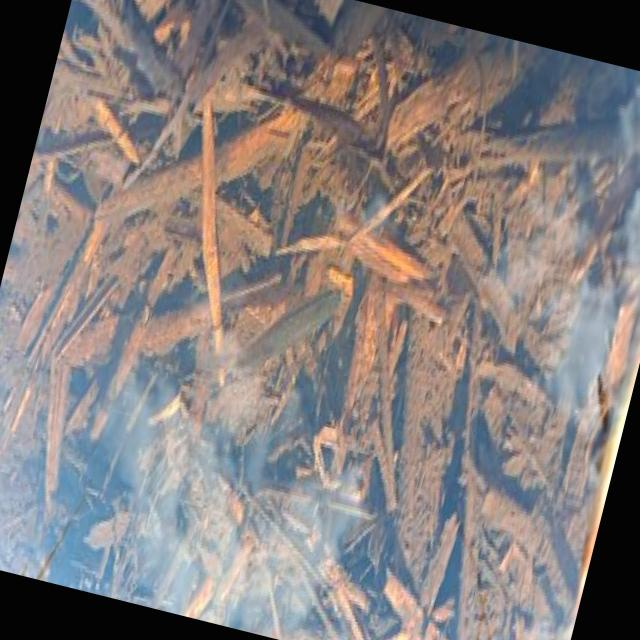Cakil Baligi: (202, 252, 348, 408)
